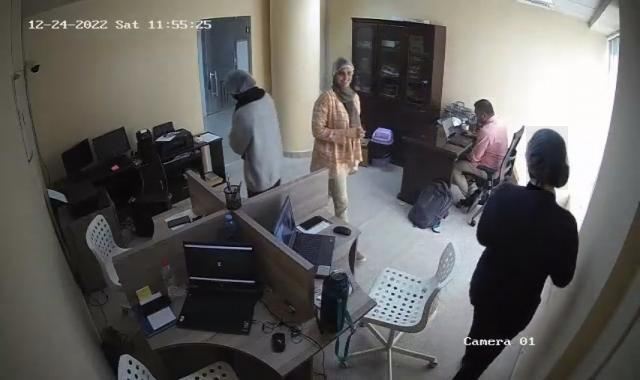gloves: (526, 126, 568, 190), (216, 68, 256, 98), (328, 56, 356, 90)
no_apron: (345, 124, 365, 143)
no_gloves: (471, 97, 496, 127)
no_hairnet: (334, 70, 360, 92)
